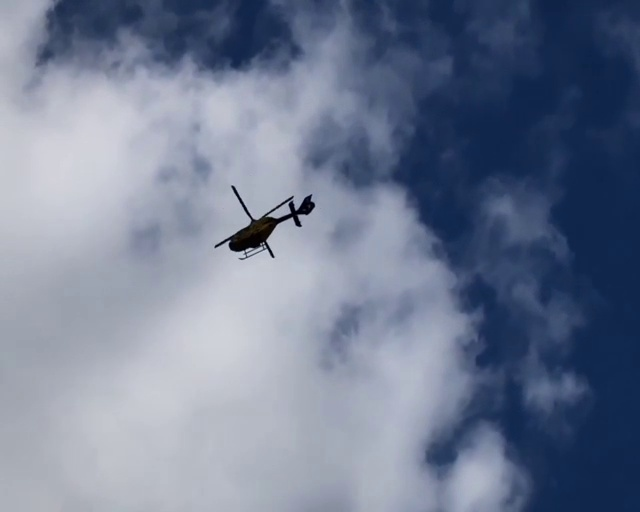HELICOPTER: (215, 184, 316, 261)
